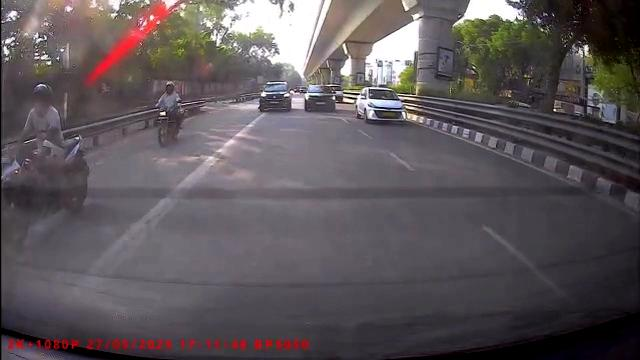motorcycle_with_helmet: (2, 82, 90, 274), (154, 80, 184, 149)
